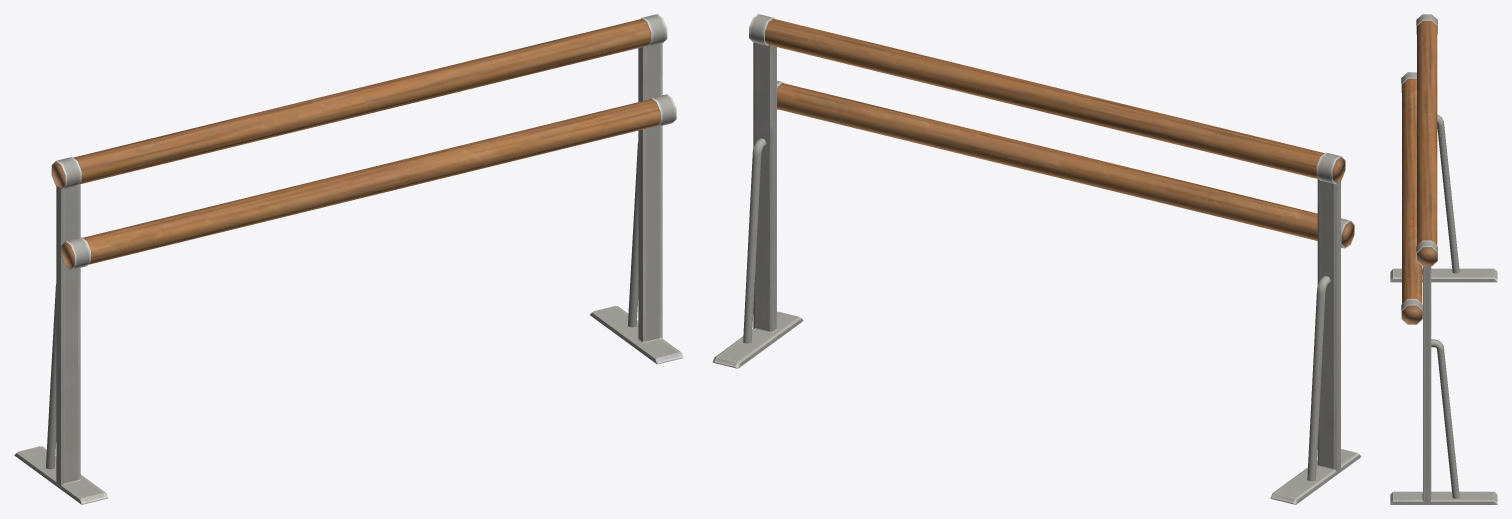
The picture shows the model from 3 angles, left to right: view 1: azimuth 30°, elevation 25°; view 2: azimuth 150°, elevation 25°; view 3: azimuth 270°, elevation 25°; orthographic projection. The views are drawn at different scales.
Bounding box in the file's own units: 20 × 10.32 × 3.9.
1 material, 1 textured.
